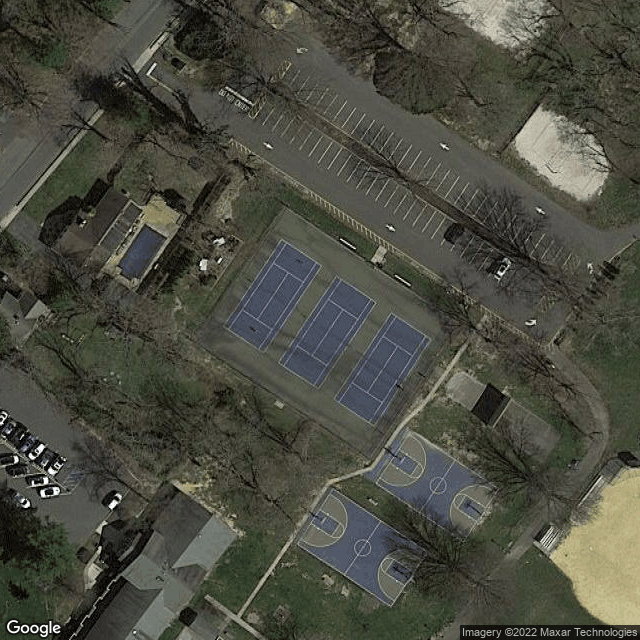Court: (274, 275, 377, 389), (333, 311, 434, 426), (224, 239, 320, 351)
